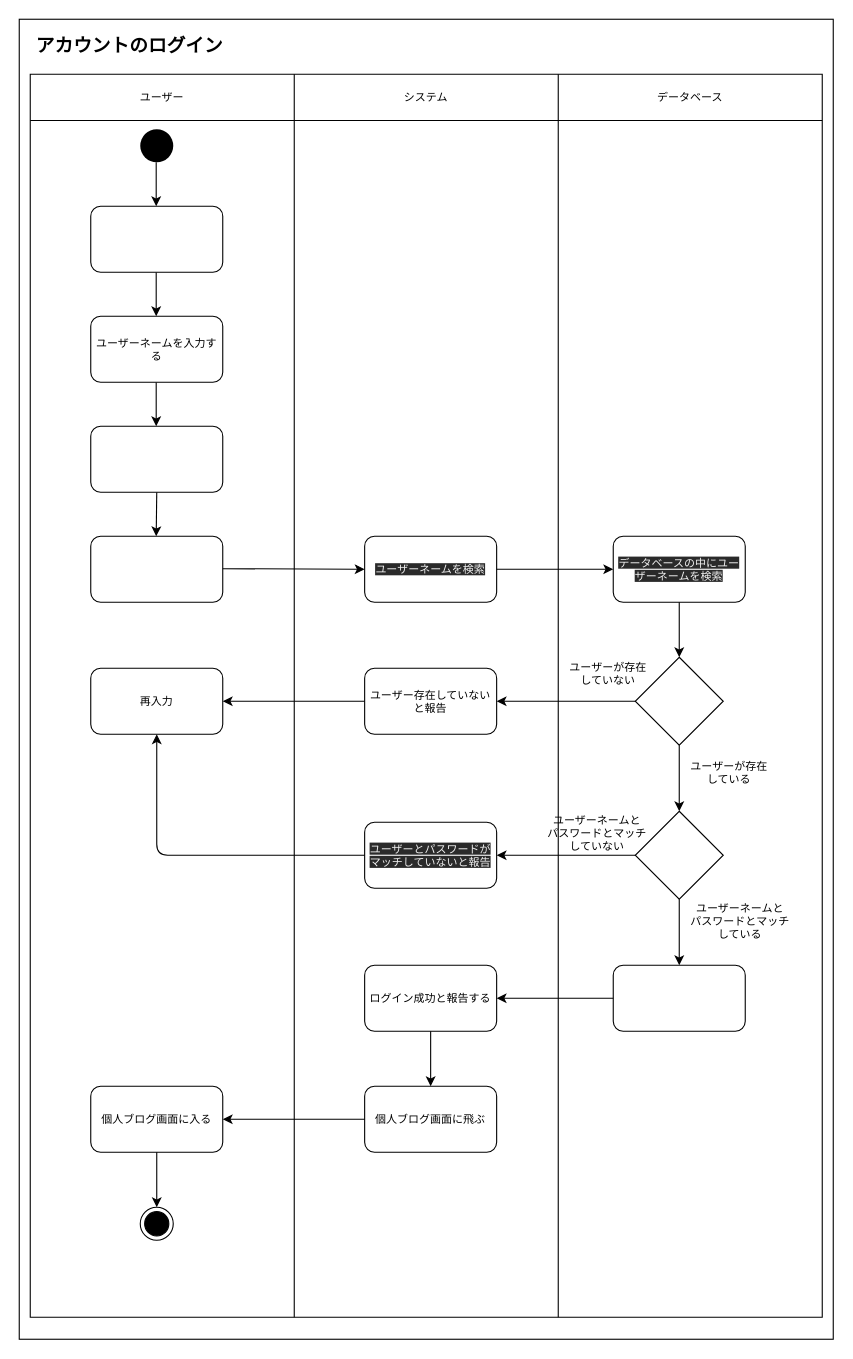
Some shapes in this 853 by 1359 pixel diagram are drawn without their labels. The shapes that lost their labels are listed below. From the top down, each one's centre as x and y in pixels, then its label:
point 156,238: ログイン画面に入って、登録のハイパーリンクをクリックして、登録画面に入る。
point 156,458: パスワードを入力する
point 156,568: 入力した資料を提出する
point 678,997: ユーザーネームとパスワードがマッチする
